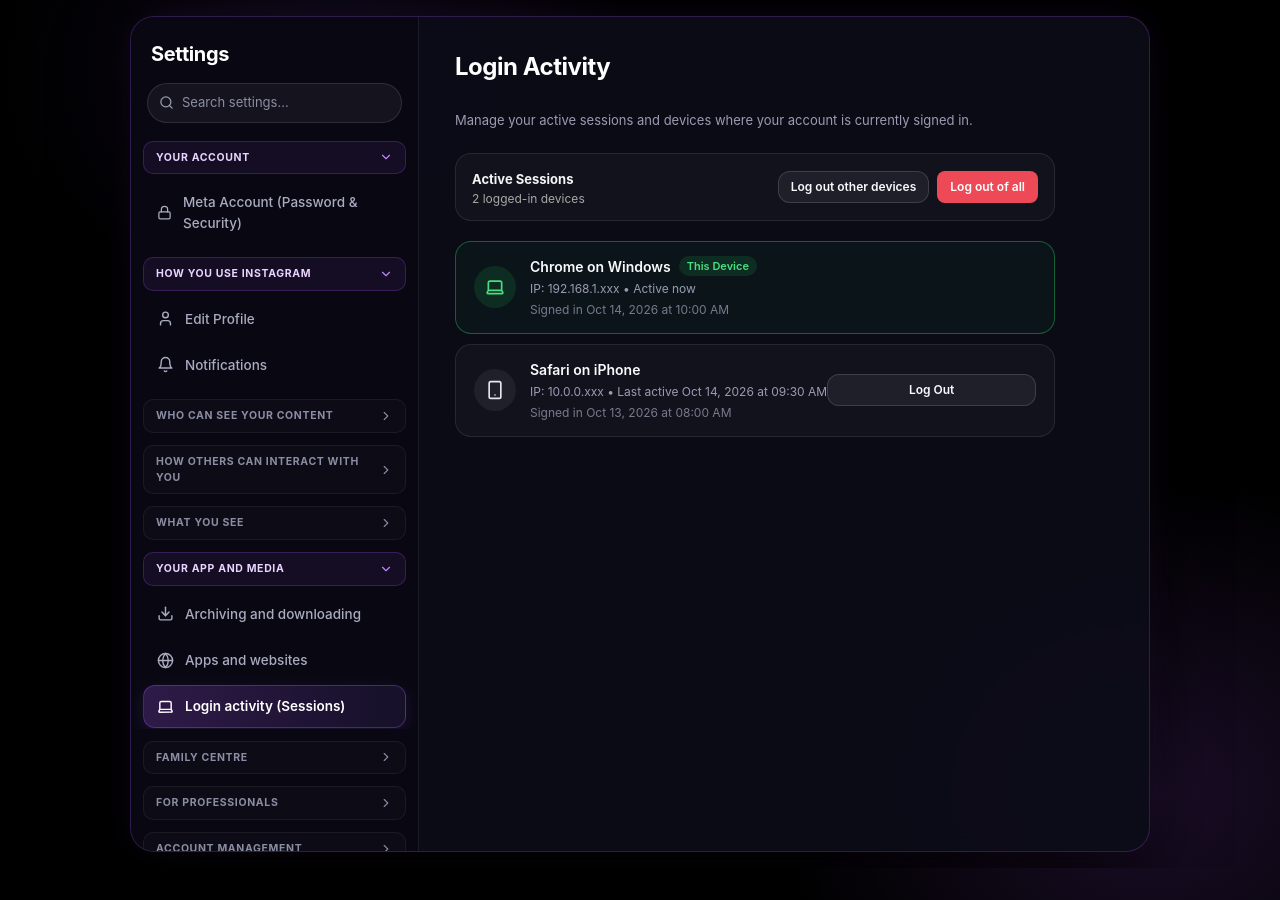
Test: Frontend Session Management & Settings Suite › 4. Confirms and revokes other sessions via modal
Earlier steps of the test are not shown.
Expected: the text "Safari on iPhone" is shown, [530,358,640,380]
Click the button "Log out other devices": (854, 186) [778,170,929,202]
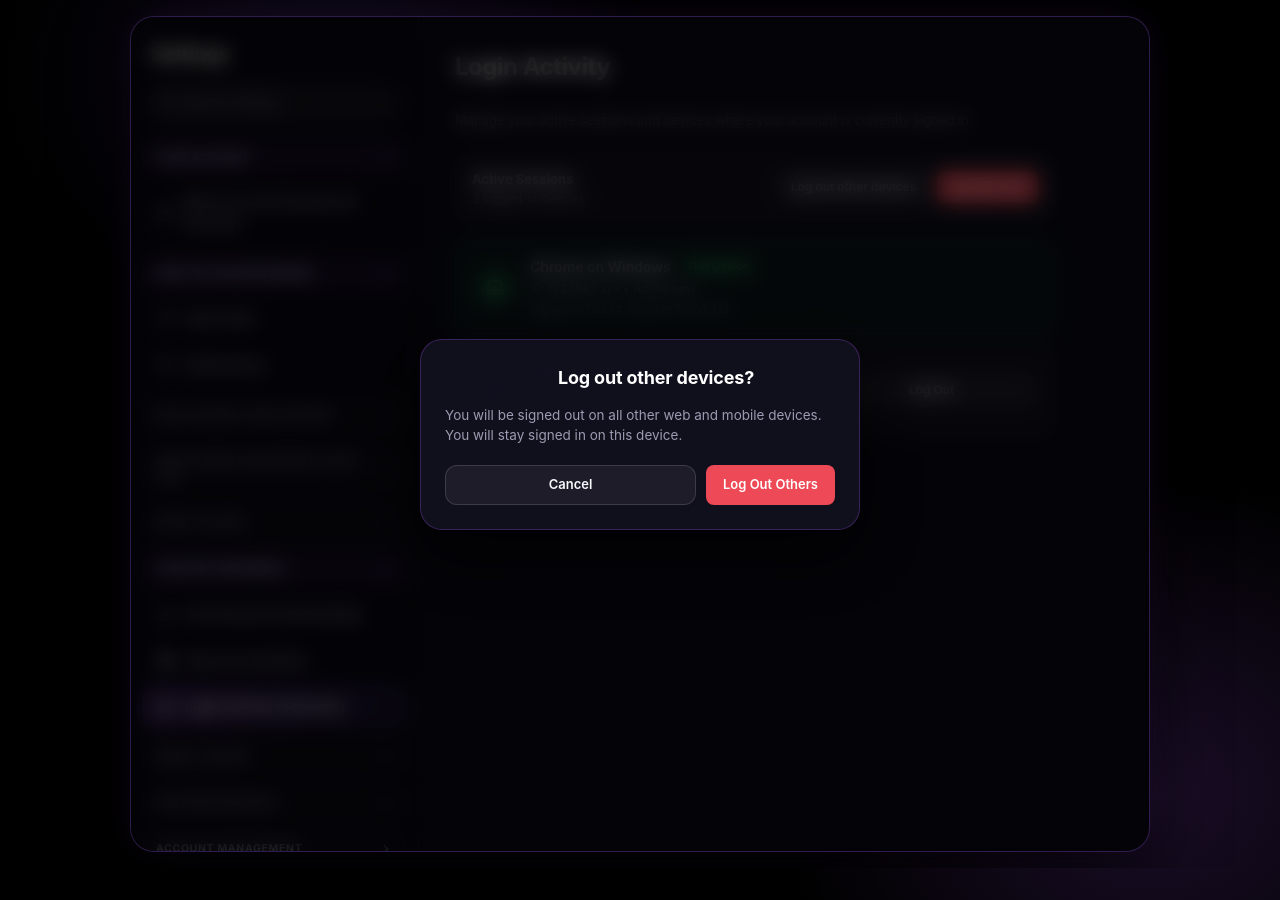
Result: the heading "Log out other devices?" is shown at [558,366,754,388]
Result: the text "You will be signed out on all other web and mobile devices" is shown at [445,406,822,443]
Click the button "Log Out Others": (770, 485) [706,465,835,504]
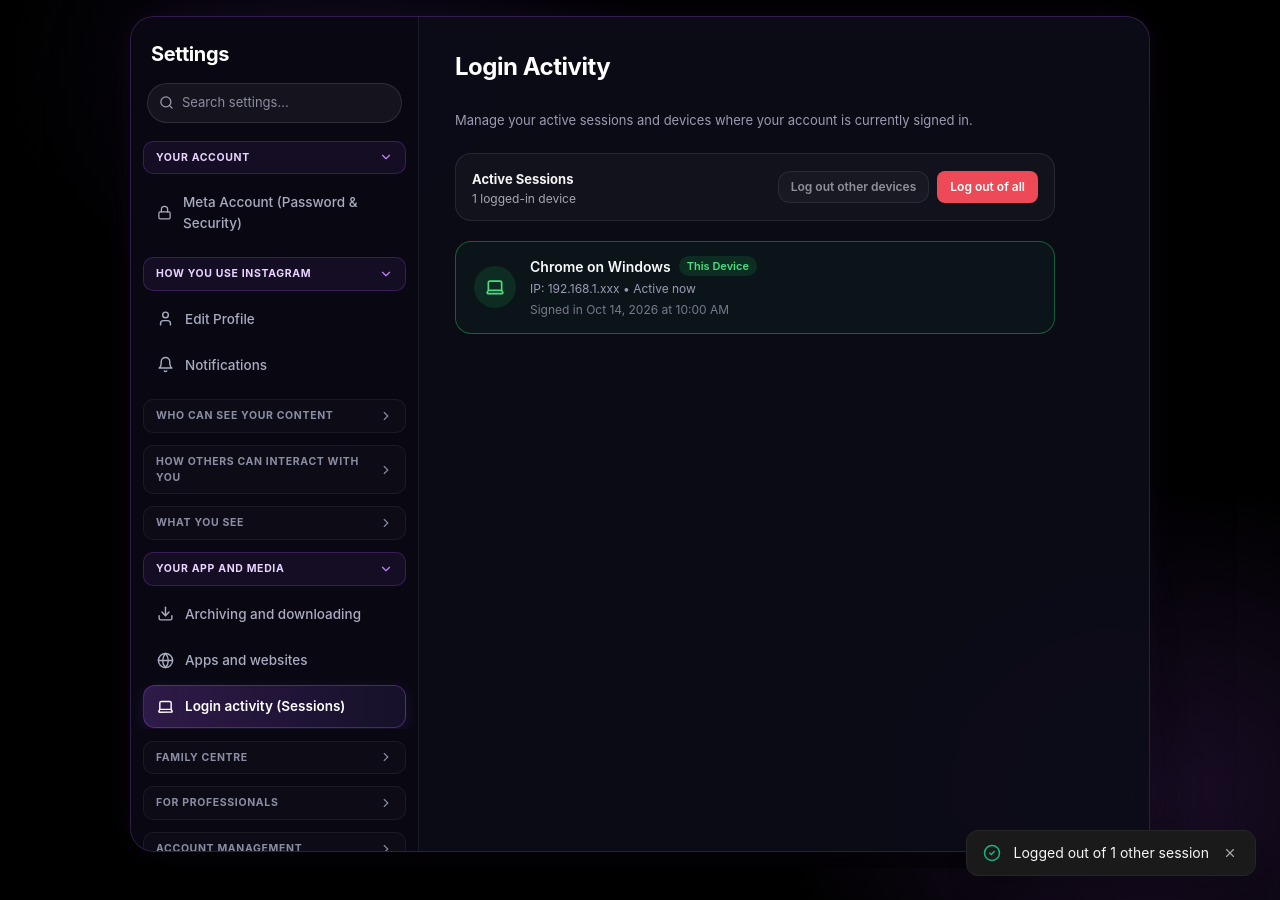
Result: the heading "Log out other devices?" is gone
Result: the text "Safari on iPhone" is gone
